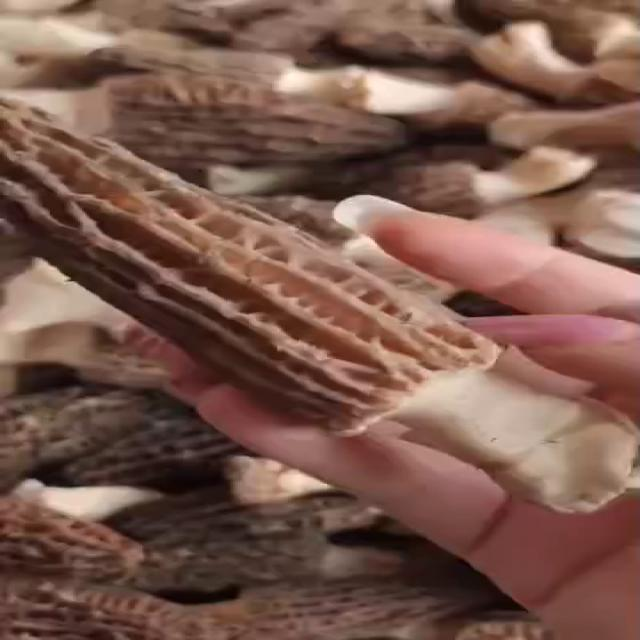Morchella esculenta: (0, 97, 640, 509)
